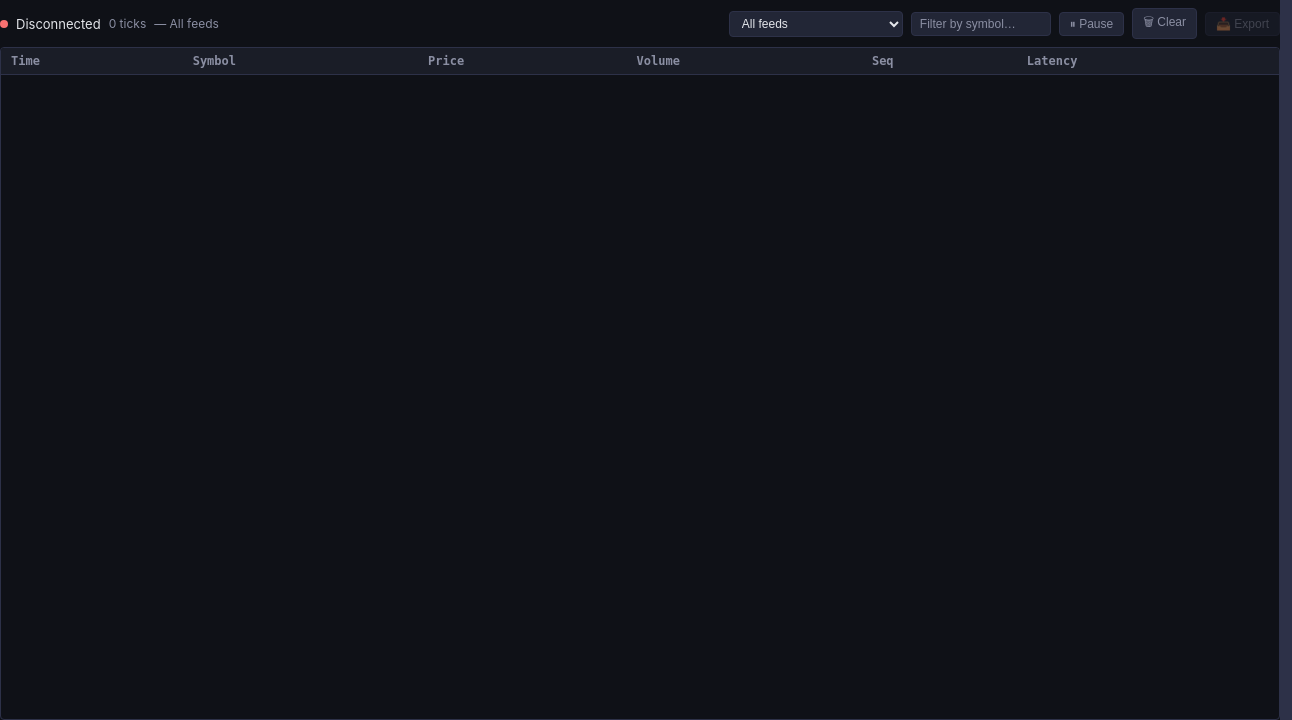
Test: LiveTickFeed › shows selected feed name in status bar
Select "Binance BTC (BINANCE)" in the dropdown: (816, 24) [729,10,903,36]
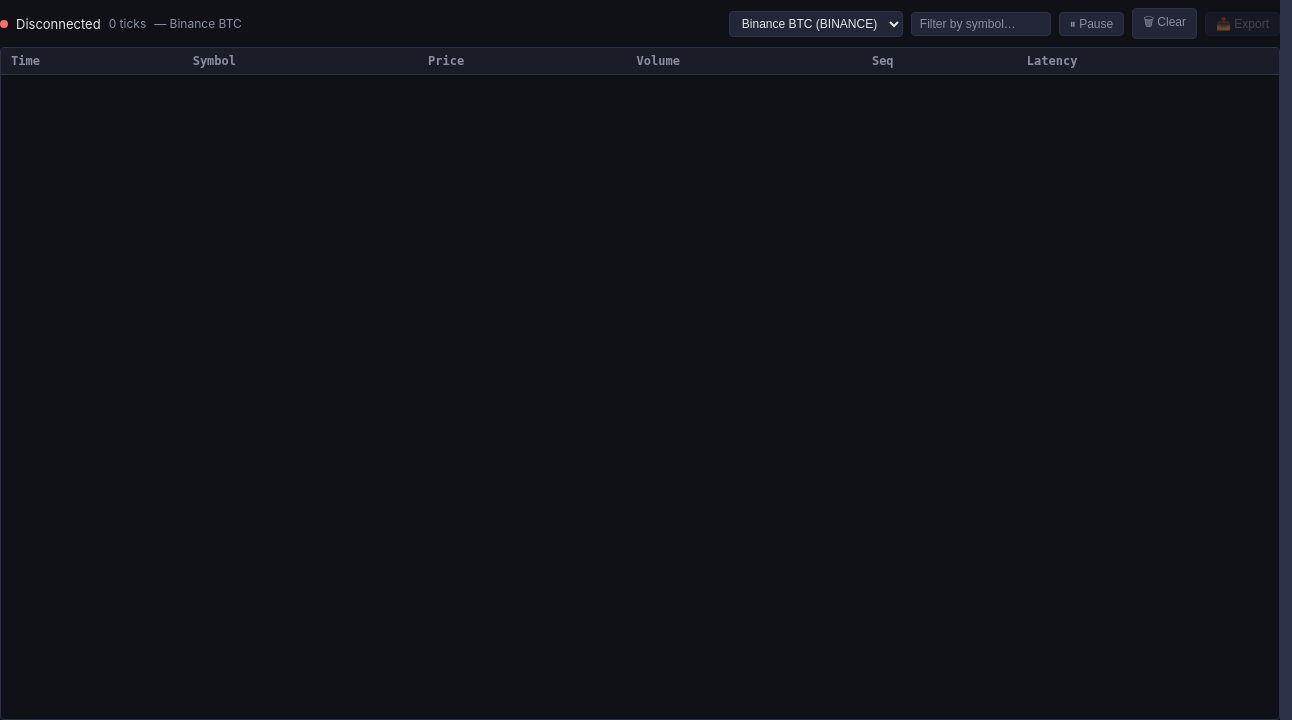
Result: the text with class "feed-source-label" shows "Binance BTC" at [170,16,242,31]
